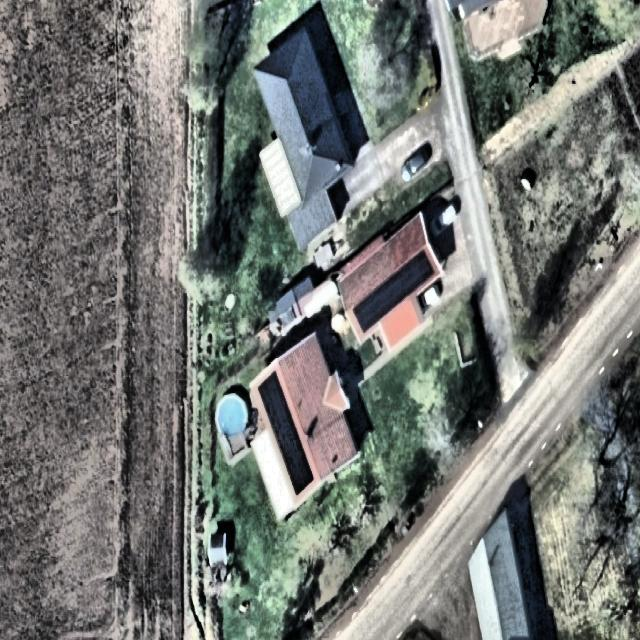roof_pv: (274, 421, 314, 498), (256, 369, 294, 427), (352, 284, 386, 338), (405, 246, 439, 290), (381, 265, 412, 308)
